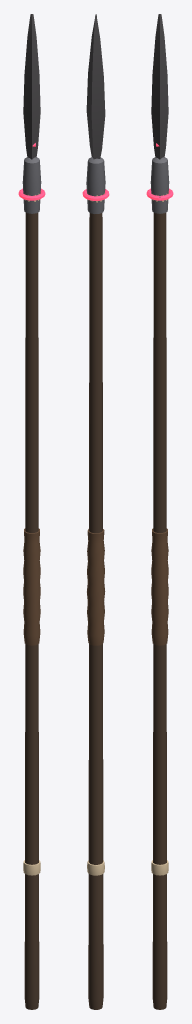
File: depth_briarfin_javelin.glb
3 views of the same model, side by side, from view 1: azimuth 90°, elevation 25°; view 2: azimuth 150°, elevation 25°; view 3: azimuth 270°, elevation 25° (orthographic).
Visible parts, largest first — view 1: depth_briarfin_javelin; view 2: depth_briarfin_javelin; view 3: depth_briarfin_javelin.
Part boxes in pixels (x1=…): depth_briarfin_javelin: x1=18, y1=14, x2=45, y2=1009; depth_briarfin_javelin: x1=82, y1=14, x2=109, y2=1009; depth_briarfin_javelin: x1=146, y1=14, x2=173, y2=1009.
Bounding box in the file's own units: 0.0431 × 1.77 × 0.0432.
